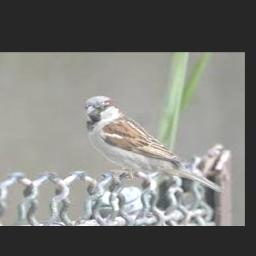Sparrow: (83, 95, 224, 195)
